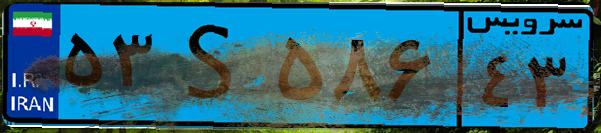3: (525, 38, 570, 115), (110, 28, 158, 98)
4: (475, 38, 525, 113)
5: (270, 28, 330, 110), (57, 26, 110, 100)
6: (385, 28, 445, 110)
8: (330, 28, 385, 110)
S: (158, 12, 270, 120)
